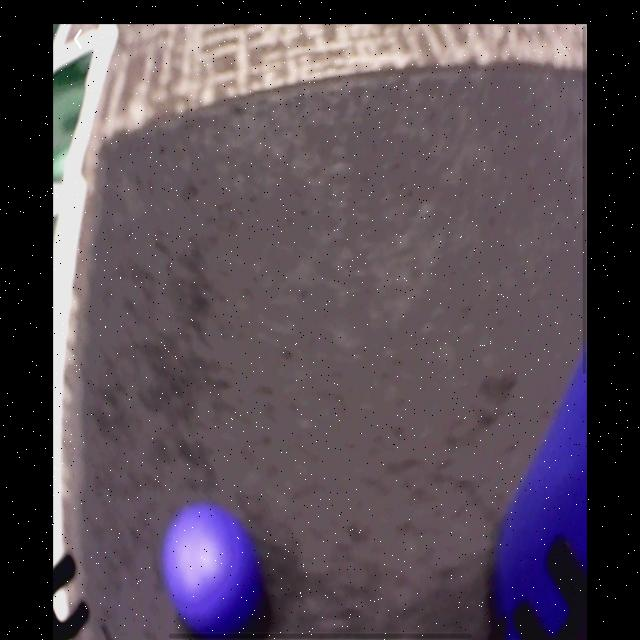ball: (166, 502, 266, 634)
